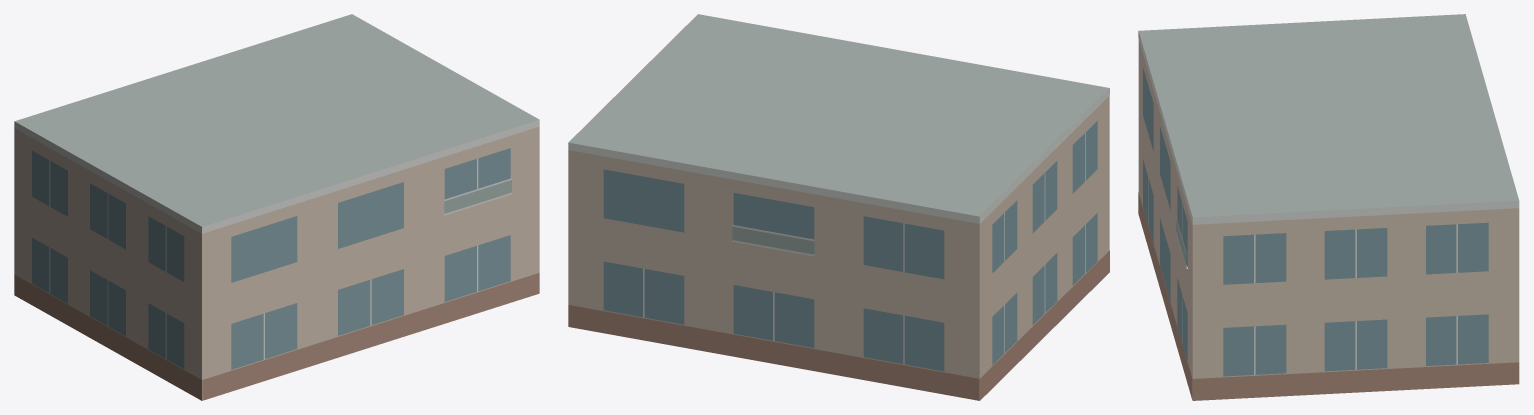
The model's file is survey-upis-32808530.glb.
The picture shows the model from 3 angles, left to right: view 1: azimuth 30°, elevation 25°; view 2: azimuth 150°, elevation 25°; view 3: azimuth 270°, elevation 25°; orthographic projection. The views are drawn at different scales.
Parts seen in each view (by area): view 1: survey-upis-32808530.tmp; view 2: survey-upis-32808530.tmp; view 3: survey-upis-32808530.tmp.
Part boxes in pixels (bbox=[...]): survey-upis-32808530.tmp: bbox=[14, 14, 539, 400]; survey-upis-32808530.tmp: bbox=[568, 14, 1109, 400]; survey-upis-32808530.tmp: bbox=[1138, 14, 1519, 400].
Bounding box in the file's own units: 14.53 × 6.1 × 11.49.
